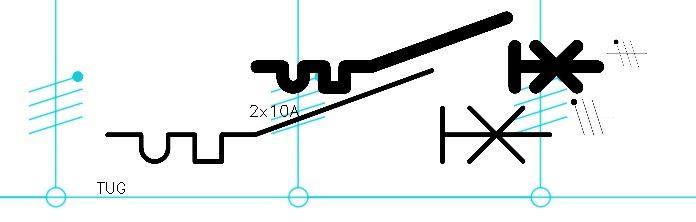interruptor_termomagnetico: (96, 59, 562, 173), (248, 9, 606, 96)
